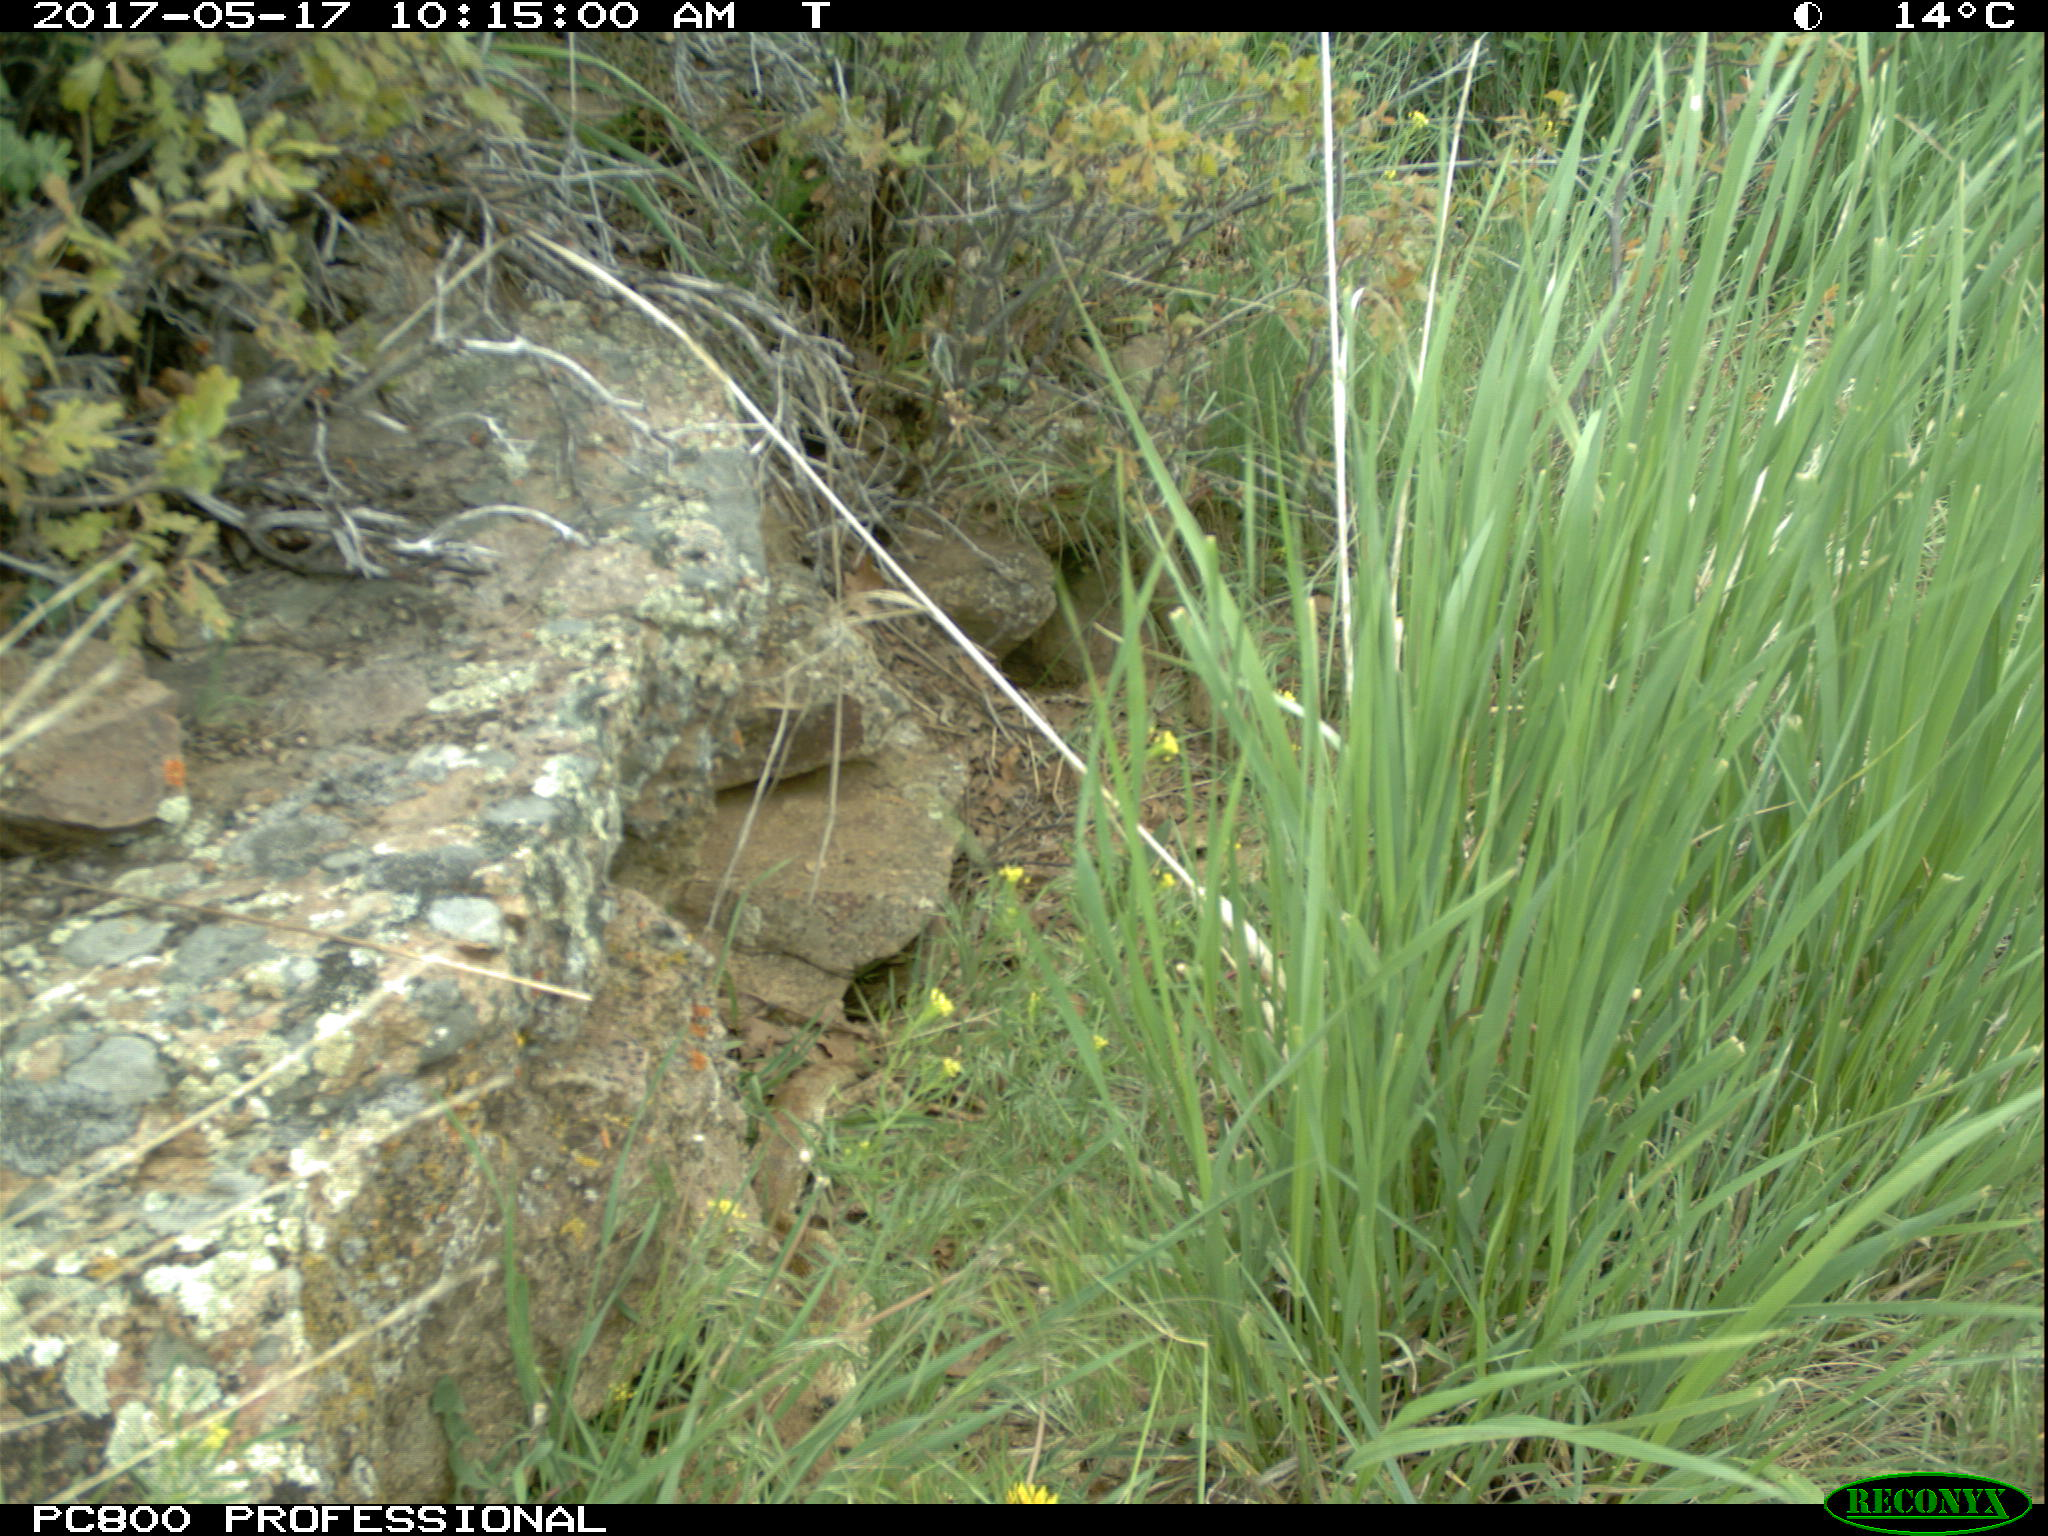snake: (761, 1062, 860, 1455)
